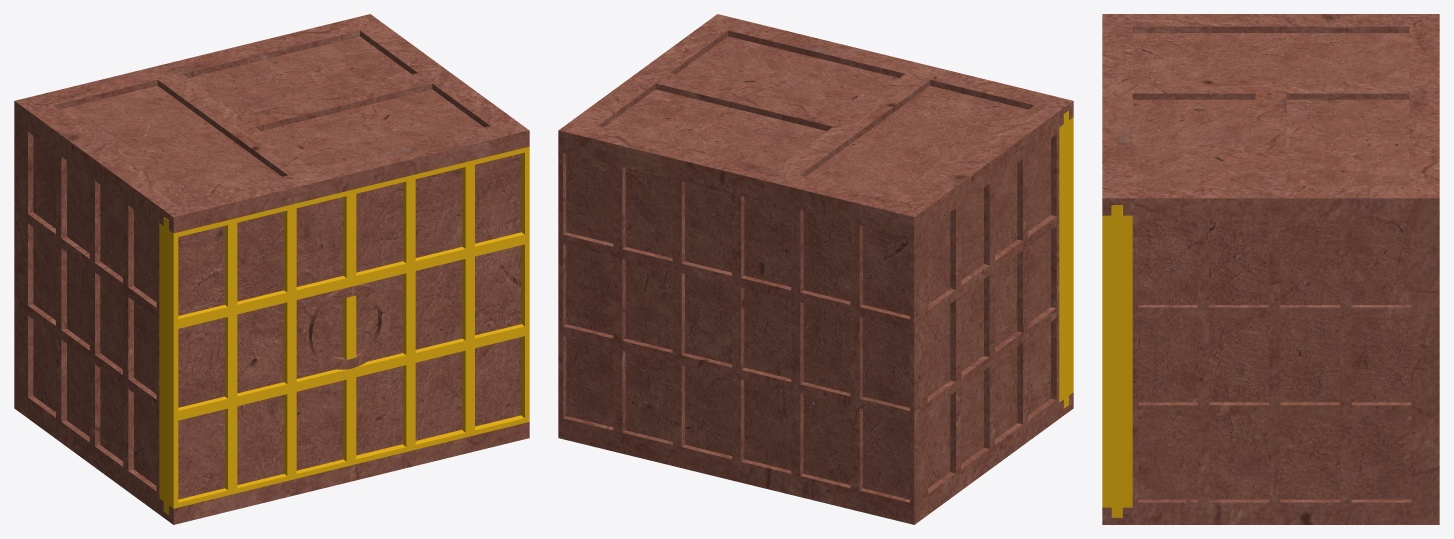
The model's file is shoji_box.gltf.
3 views of the same model, side by side, from view 1: azimuth 30°, elevation 25°; view 2: azimuth 150°, elevation 25°; view 3: azimuth 270°, elevation 25° (orthographic). The views are drawn at different scales.
Parts seen in each view (by area): view 1: 65481ab20629a77206b4739e.005, 65481ab20629a77206b4739e.001, 65481ab20629a77206b4739e.006, 65481ab20629a77206b4739e.011, 65481ab20629a77206b4739e.004; view 2: 65481ab20629a77206b4739e.005, 65481ab20629a77206b4739e.009, 65481ab20629a77206b4739e.011, 65481ab20629a77206b4739e.004, 65481ab20629a77206b4739e.001; view 3: 65481ab20629a77206b4739e.005, 65481ab20629a77206b4739e.010, 65481ab20629a77206b4739e.011, 65481ab20629a77206b4739e.006.
Boxes of the visible parts, bbox=[...] form: 65481ab20629a77206b4739e.005: bbox=[14, 14, 529, 524]; 65481ab20629a77206b4739e.001: bbox=[159, 190, 351, 514]; 65481ab20629a77206b4739e.006: bbox=[351, 146, 529, 464]; 65481ab20629a77206b4739e.011: bbox=[60, 36, 483, 200]; 65481ab20629a77206b4739e.004: bbox=[33, 136, 156, 485]; 65481ab20629a77206b4739e.005: bbox=[558, 14, 1073, 524]; 65481ab20629a77206b4739e.009: bbox=[566, 153, 909, 499]; 65481ab20629a77206b4739e.011: bbox=[604, 36, 1027, 200]; 65481ab20629a77206b4739e.004: bbox=[928, 138, 1050, 488]; 65481ab20629a77206b4739e.001: bbox=[1059, 111, 1073, 408]; 65481ab20629a77206b4739e.005: bbox=[1102, 14, 1439, 524]; 65481ab20629a77206b4739e.010: bbox=[1138, 220, 1411, 499]; 65481ab20629a77206b4739e.011: bbox=[1132, 33, 1409, 185]; 65481ab20629a77206b4739e.006: bbox=[1102, 205, 1132, 517].
Bounding box in the file's own units: 0.115 × 0.095 × 0.089.
6 materials, 5 textured.
